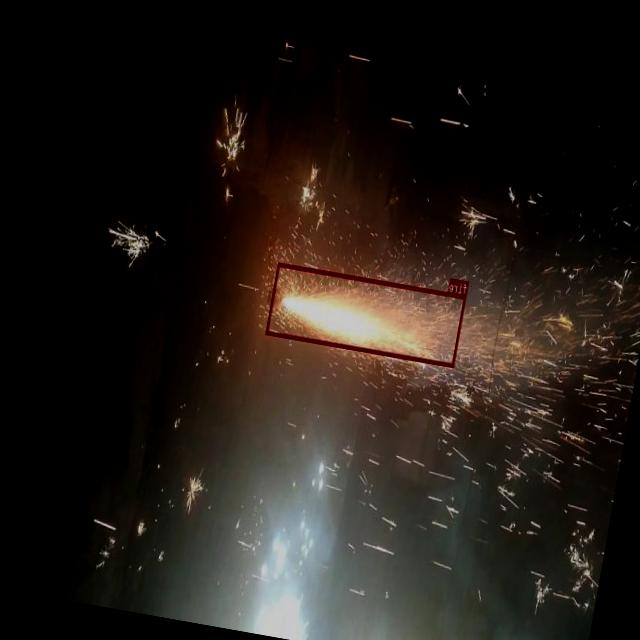fire: (266, 261, 467, 367)
